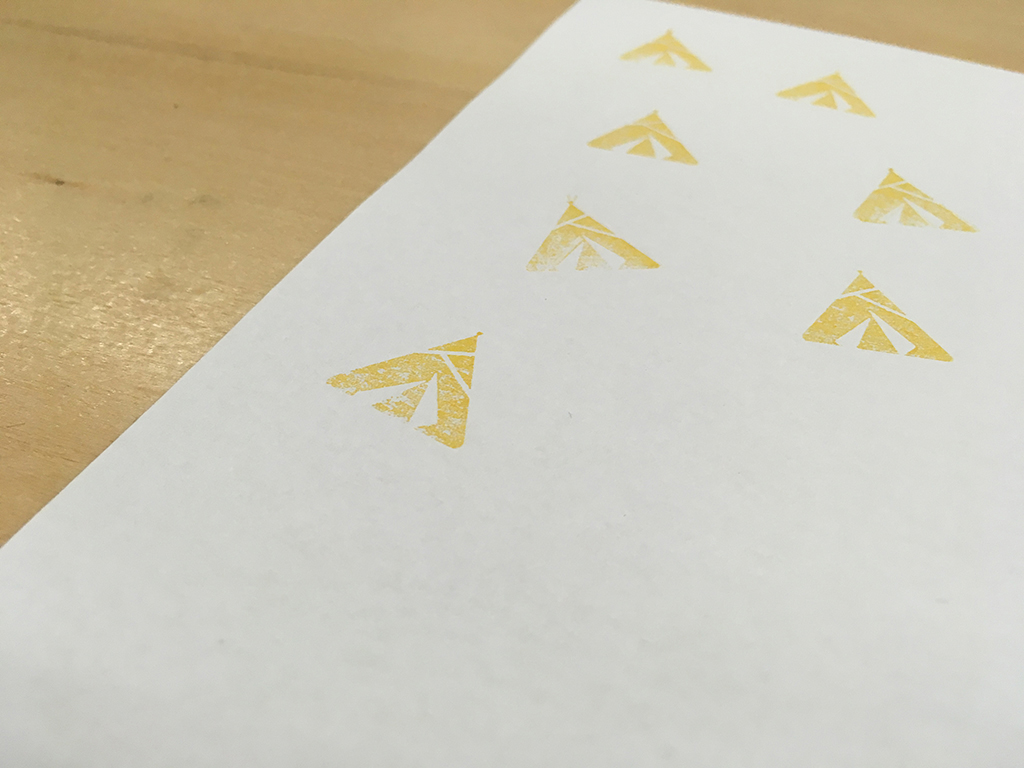tent: (322, 328, 493, 452), (796, 265, 965, 367), (517, 193, 669, 278), (850, 163, 989, 241), (584, 101, 703, 174), (772, 68, 880, 125), (616, 24, 716, 78)
